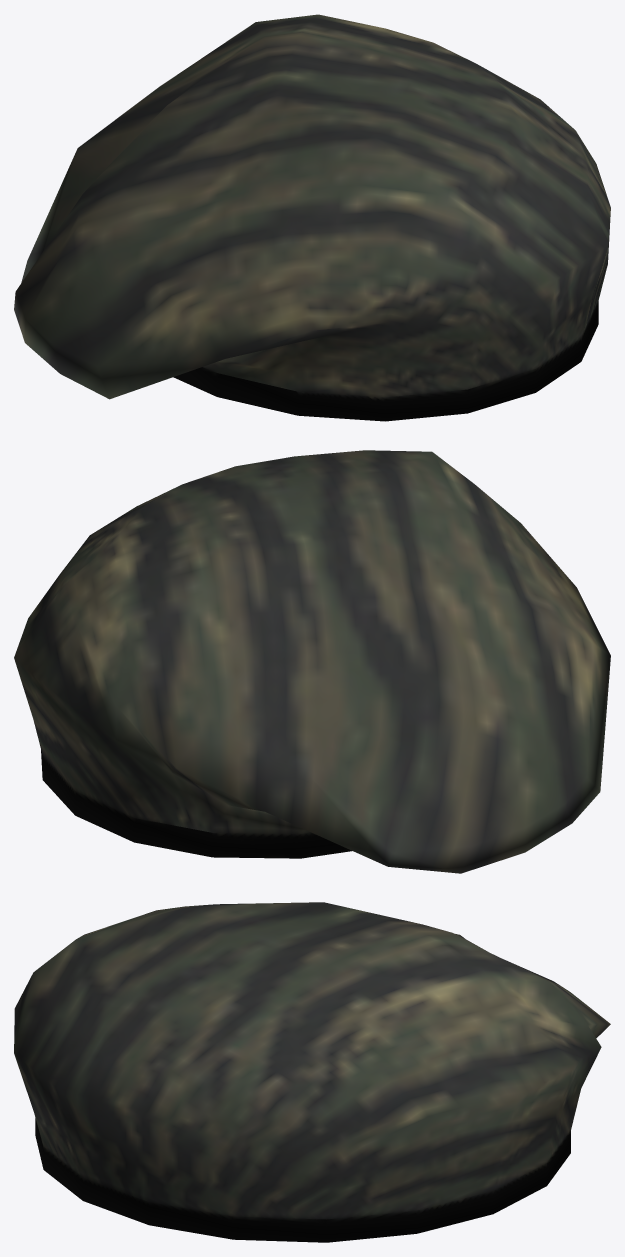
The model's file is Beret_WorldItem.fbx.
The picture shows the model from 3 angles, top to bottom: view 1: azimuth 30°, elevation 25°; view 2: azimuth 150°, elevation 25°; view 3: azimuth 270°, elevation 25°; orthographic projection. The views are drawn at different scales.
Visible parts, largest first — view 1: Circle; view 2: Circle; view 3: Circle.
Boxes of the visible parts, <box> form: Circle: <box>14,14,610,421</box>; Circle: <box>14,450,610,873</box>; Circle: <box>14,902,610,1242</box>.
Bounding box in the file's own units: 0.3642 × 0.1496 × 0.338.
